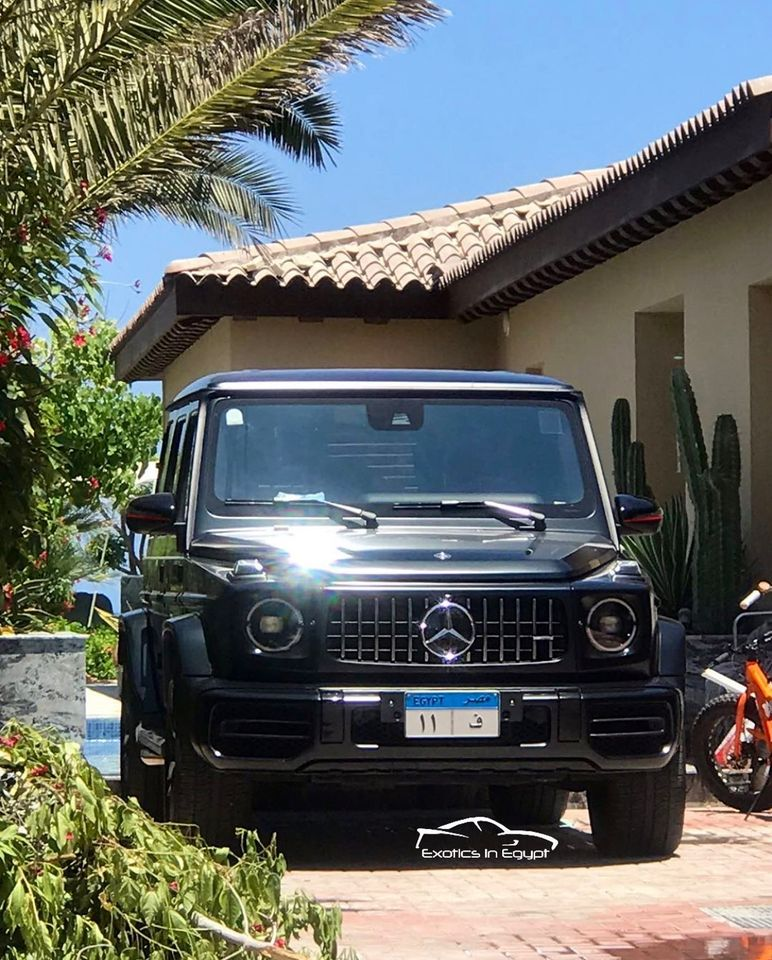carpl: (408, 692, 499, 737)
